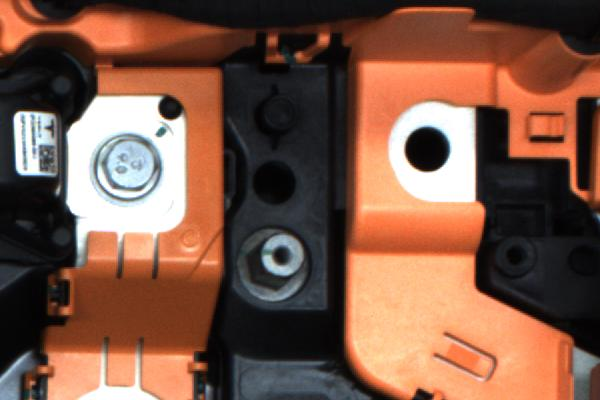nut_b: (89, 137, 171, 208)
